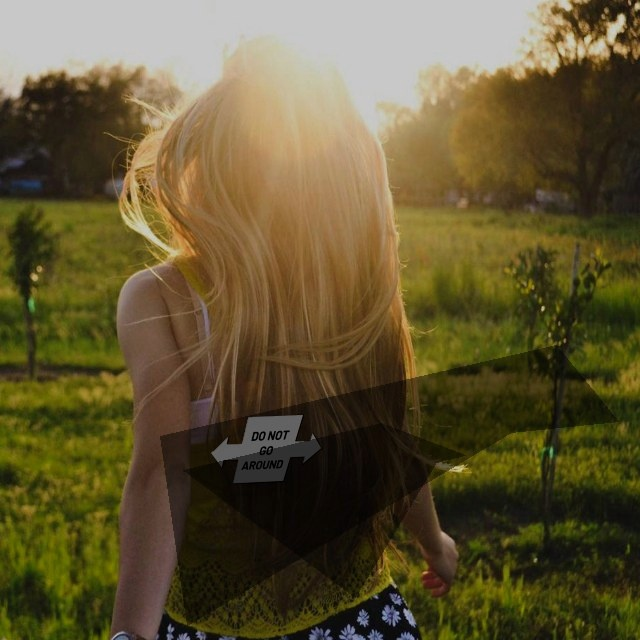DO_NOT_GO_AROUND: (210, 414, 322, 484)
